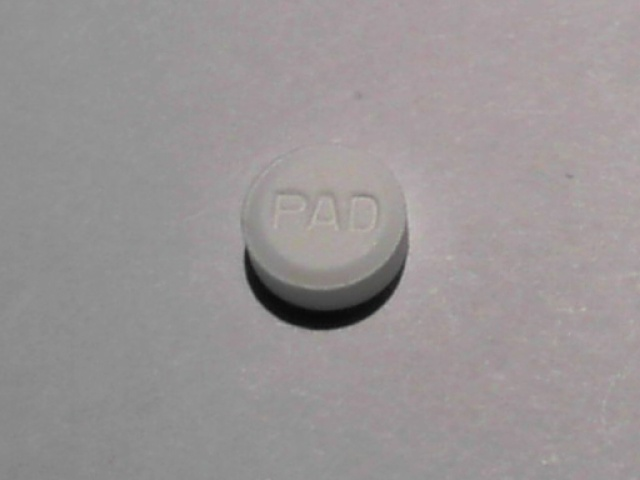A: (305, 188, 343, 237)
D: (346, 189, 383, 241)
P: (268, 187, 308, 231)
